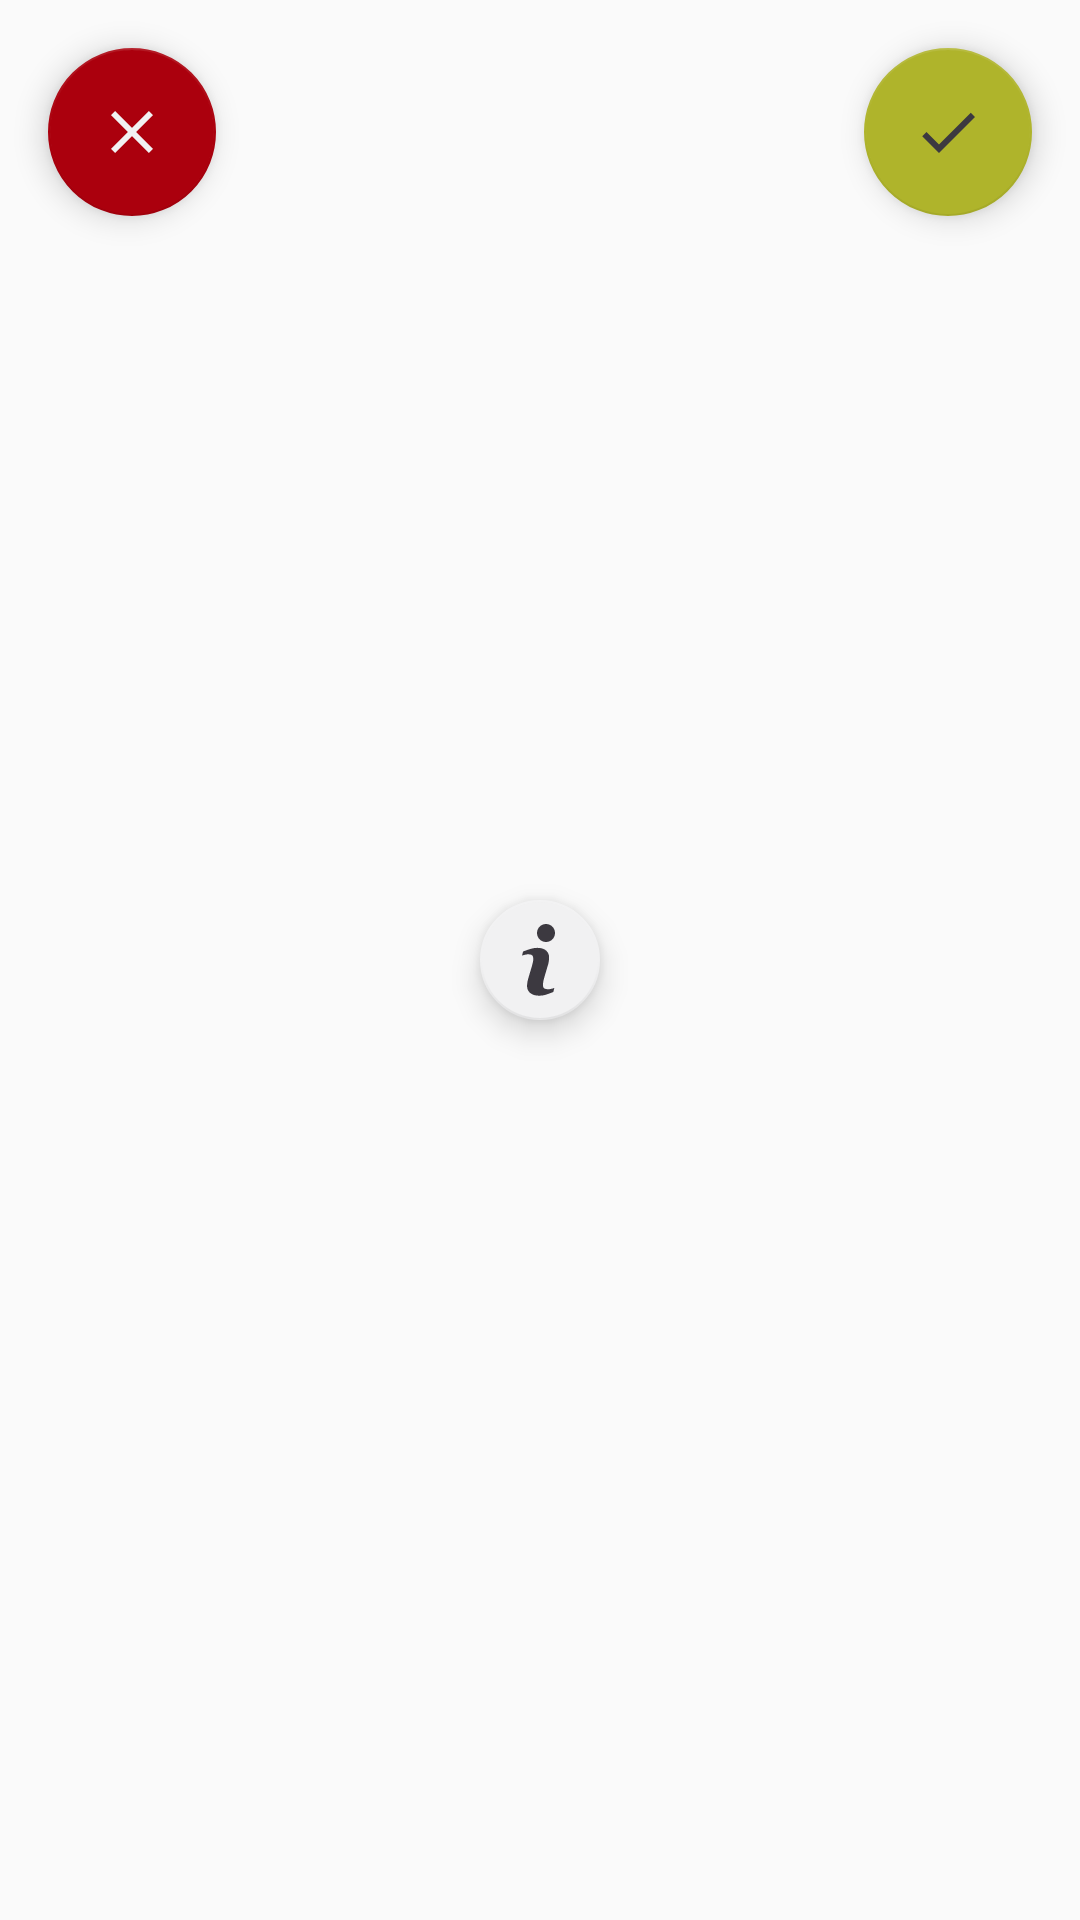

Screen size 1080x1920. Icon name, then its box in pixels as (x1, y1, x2, y2):
check: (864, 48, 1032, 216)
close: (48, 48, 216, 216)
information: (489, 924, 591, 1020)
